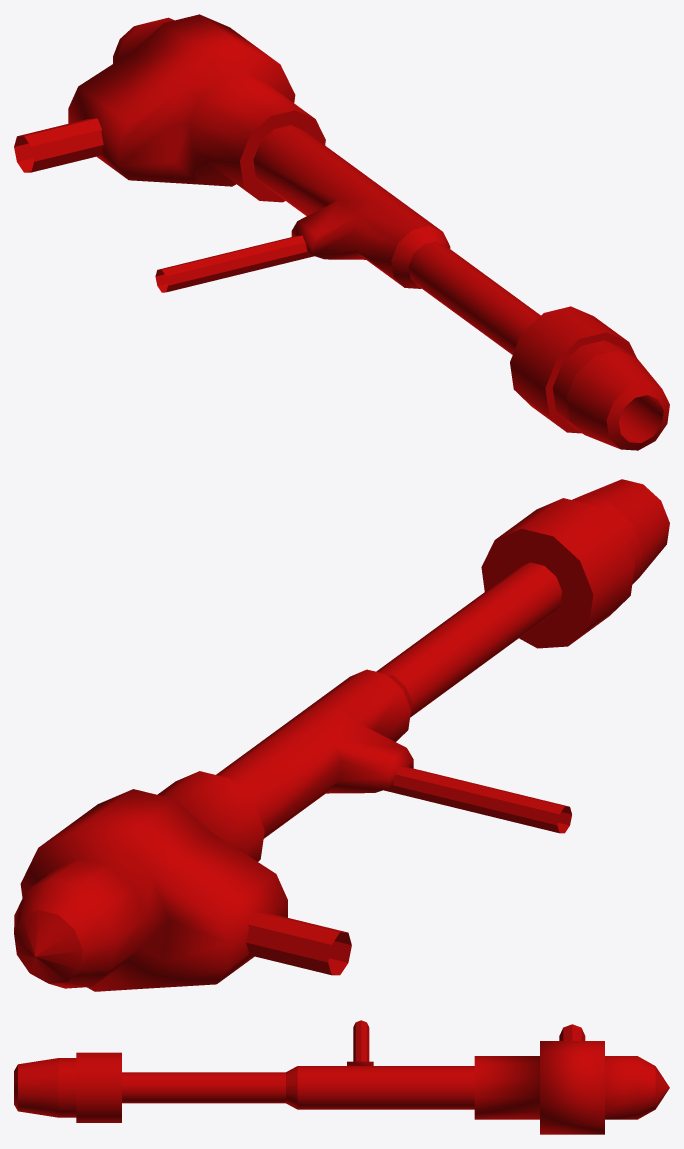
File: Gun_L.fbx
The picture shows the model from 3 angles, top to bottom: view 1: azimuth 30°, elevation 25°; view 2: azimuth 150°, elevation 25°; view 3: azimuth 270°, elevation 25°; orthographic projection. The views are drawn at different scales.
Visible parts, largest first — view 1: Tube031.001, Tube031.003; view 2: Tube031.001, Tube031.003; view 3: Tube031.001, Tube031.003.
Part boxes in pixels (bbox=[...]): Tube031.001: bbox=[68, 14, 669, 450]; Tube031.003: bbox=[14, 118, 314, 292]; Tube031.001: bbox=[14, 479, 669, 991]; Tube031.003: bbox=[246, 766, 571, 975]; Tube031.001: bbox=[14, 1041, 669, 1134]; Tube031.003: bbox=[353, 1020, 585, 1061].
Bounding box in the file's own units: 1.42 × 0.6527 × 4.62.
